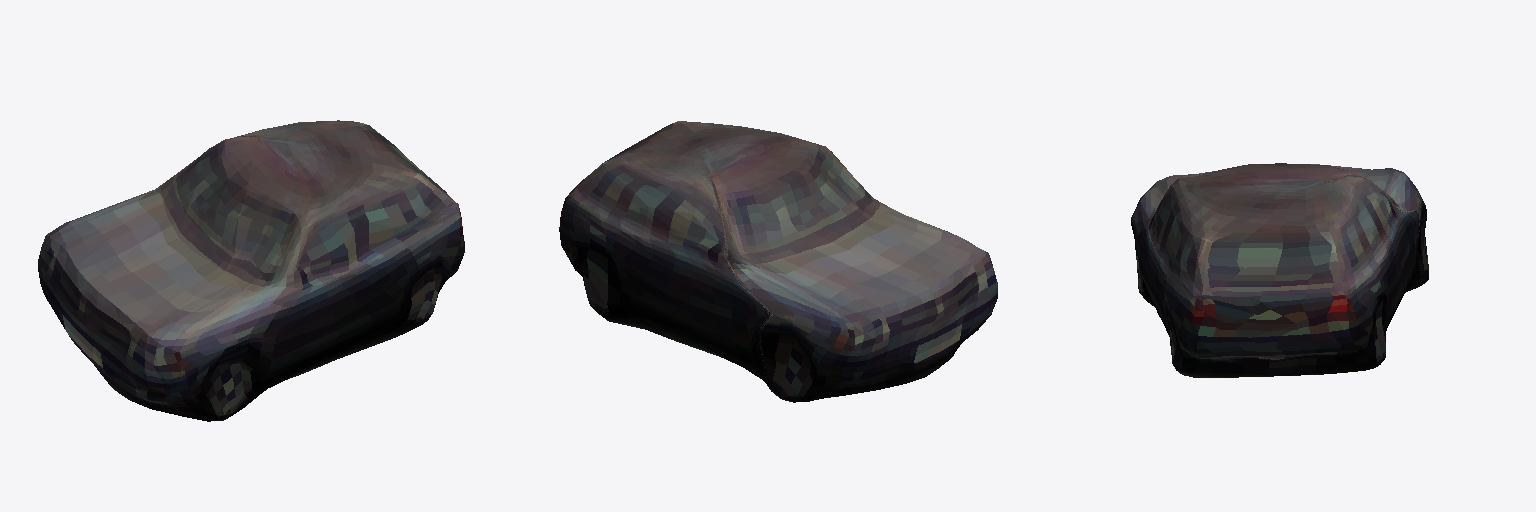
The picture shows the model from 3 angles: view 1: azimuth 30°, elevation 25°; view 2: azimuth 150°, elevation 25°; view 3: azimuth 270°, elevation 25°; orthographic projection.
Size of the model in its own units: 1 by 0.5069 by 0.7348.
1 materials, 1 textured.